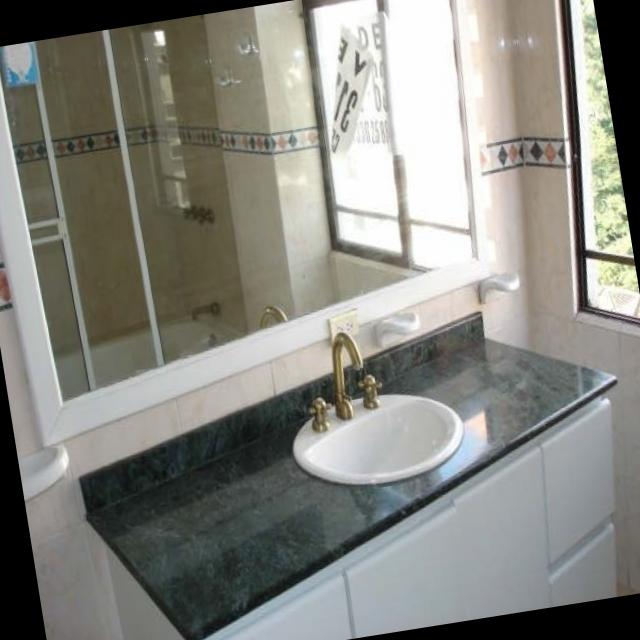Table: (79, 316, 613, 640)
Window: (560, 0, 640, 321)
basin: (294, 376, 461, 491)
bath crop: (60, 301, 243, 391)
drawer handle: (532, 393, 616, 567)
hanger: (231, 25, 259, 68), (217, 65, 241, 88)
outlet: (327, 306, 359, 347)
soap dispenser: (474, 259, 523, 310)
tap: (329, 328, 367, 415)
tile wall: (520, 167, 570, 260)
